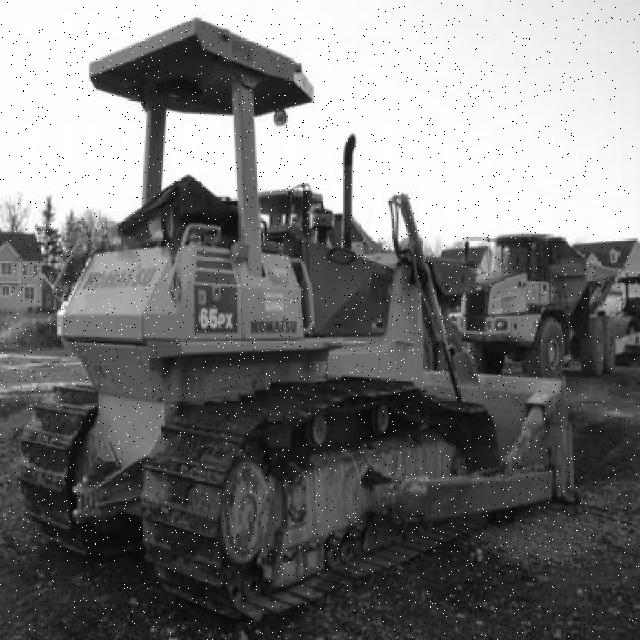Construction Equipment: (14, 19, 575, 623)
